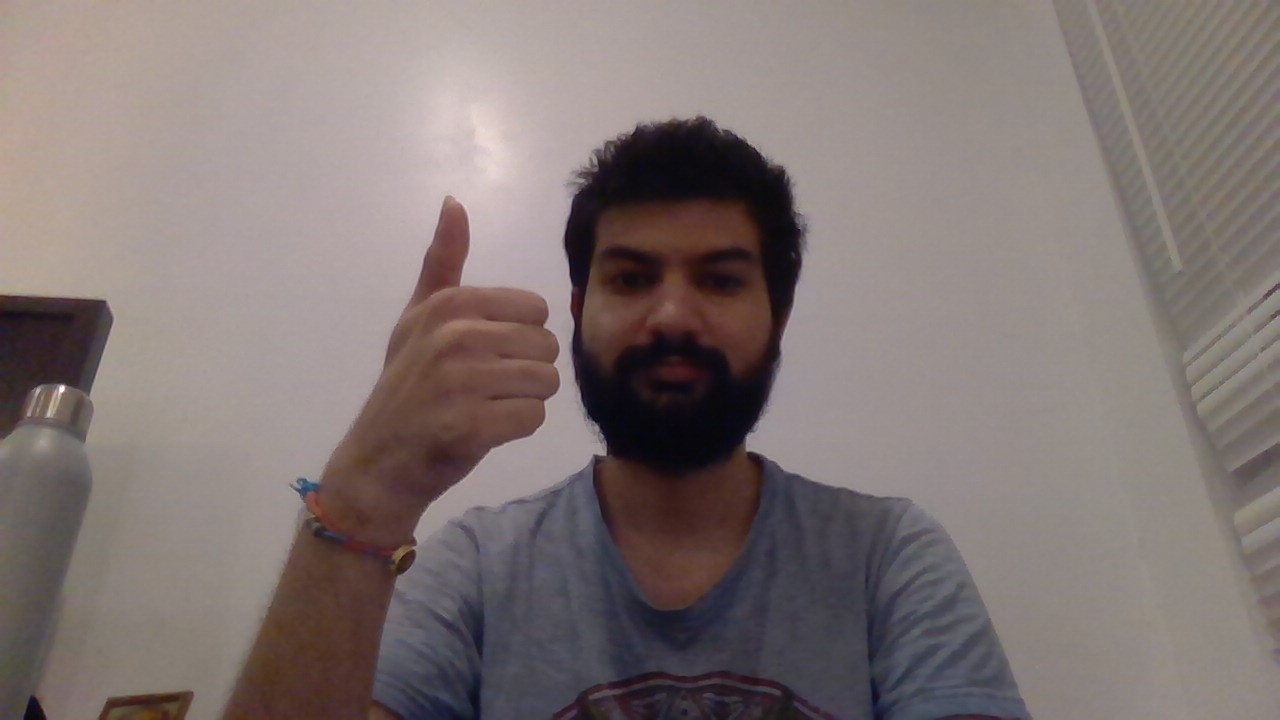up: (368, 186, 566, 463)
